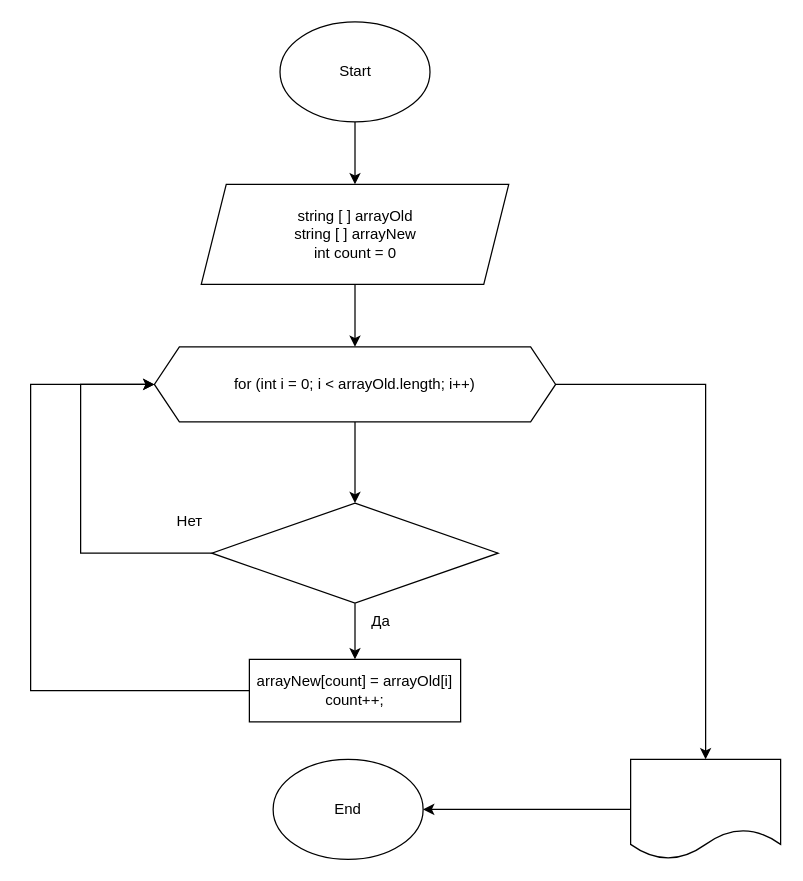
This 803x881 diagram has some shape labels left out. The centre of each missing label's shape, as x and y in pixels:
if (arrayOld[i].length <= 3): (354,552)
string [ ] arrayNew: (705,808)
